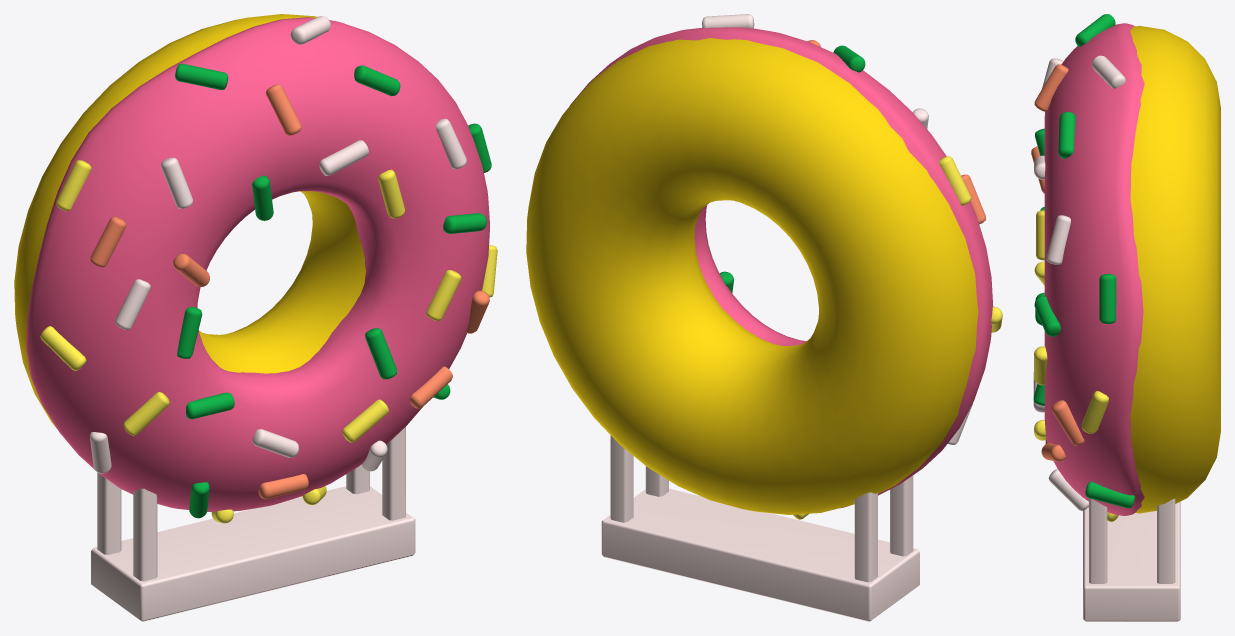
Rendered from Store_14_Donuts_Sign_2.glb.
3 renders of one model, left to right at view 1: azimuth 30°, elevation 25°; view 2: azimuth 150°, elevation 25°; view 3: azimuth 270°, elevation 25°, orthographic. The views are drawn at different scales.
Visible parts, largest first — view 1: Store_14_Donuts_Sign_2; view 2: Store_14_Donuts_Sign_2; view 3: Store_14_Donuts_Sign_2.
Part boxes in pixels (<box>): Store_14_Donuts_Sign_2: <box>14,14,497,621</box>; Store_14_Donuts_Sign_2: <box>526,14,1002,621</box>; Store_14_Donuts_Sign_2: <box>1031,14,1220,621</box>.
Size of the model in its own units: 7.68 by 8.83 by 2.94.
1 material, 1 textured.
